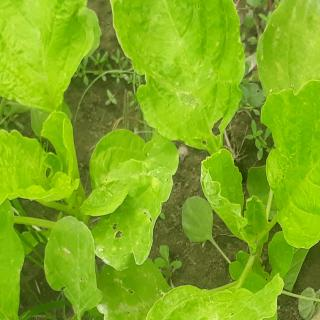karat_putih: (96, 232, 156, 320)
virus_keriting: (109, 0, 246, 146), (0, 0, 96, 108), (0, 111, 64, 211), (260, 92, 306, 225), (82, 157, 152, 218), (242, 191, 263, 256)
